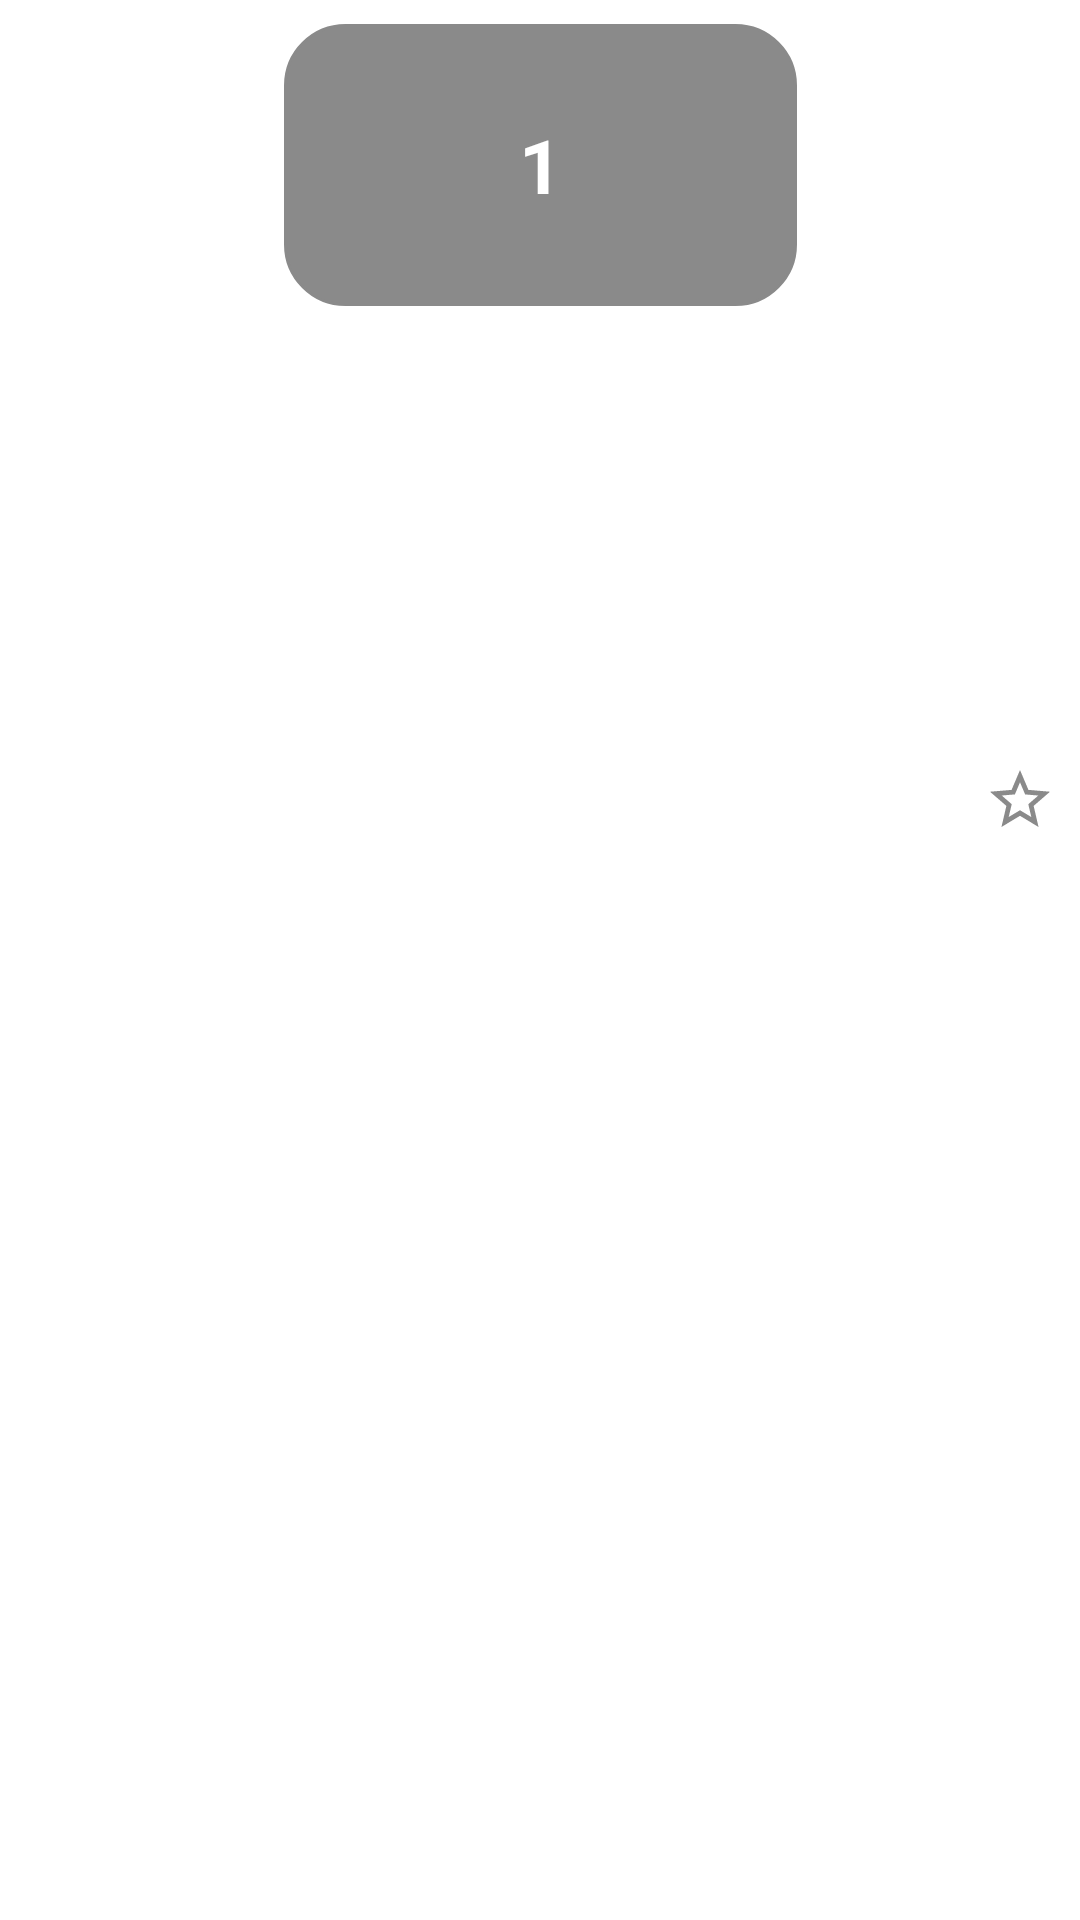

Icons on this 1080w x 1920h Android screen, each with its box as (x1, y1, x2, y2):
star border: (991, 771, 1049, 827)
